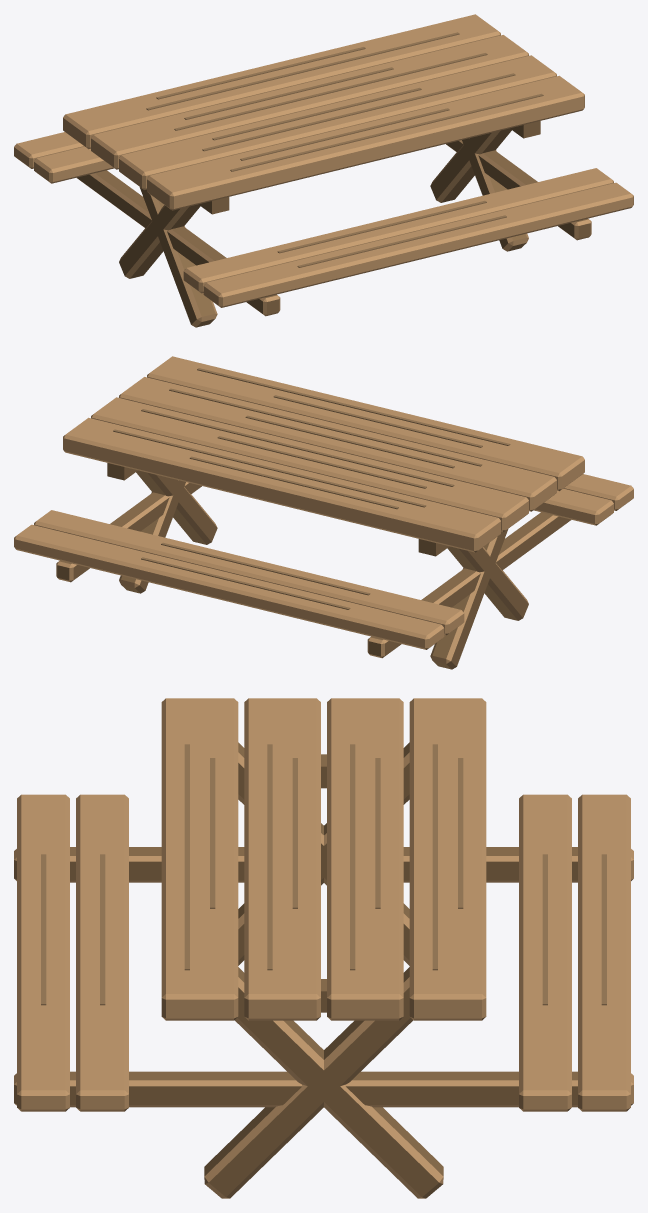
Rendered from picnicTable.glb.
3 views of the same model, one above another, from view 1: azimuth 30°, elevation 25°; view 2: azimuth 150°, elevation 25°; view 3: azimuth 270°, elevation 25° (orthographic). The views are drawn at different scales.
Parts seen in each view (by area): view 1: picnicTable-m; view 2: picnicTable-m; view 3: picnicTable-m.
Part boxes in pixels (x1,y1,x2,y2): picnicTable-m: (14,14,633,327); picnicTable-m: (14,356,633,669); picnicTable-m: (14,698,633,1198).
Size of the model in its own units: 2.4 by 0.8847 by 2.1.
